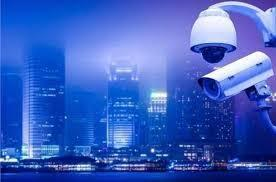maru: (192, 49, 276, 107), (187, 0, 241, 66)
